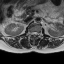CCS_normal: (33, 29, 35, 38)
LFS_normal: (37, 30, 39, 36)
LLS_normal: (35, 29, 37, 37)
RFS_normal: (30, 29, 32, 36)
RLS_normal: (32, 29, 33, 36)
